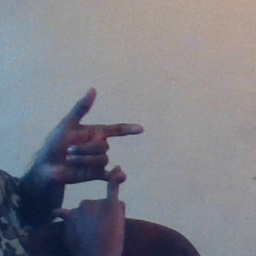S: (35, 85, 147, 241)
